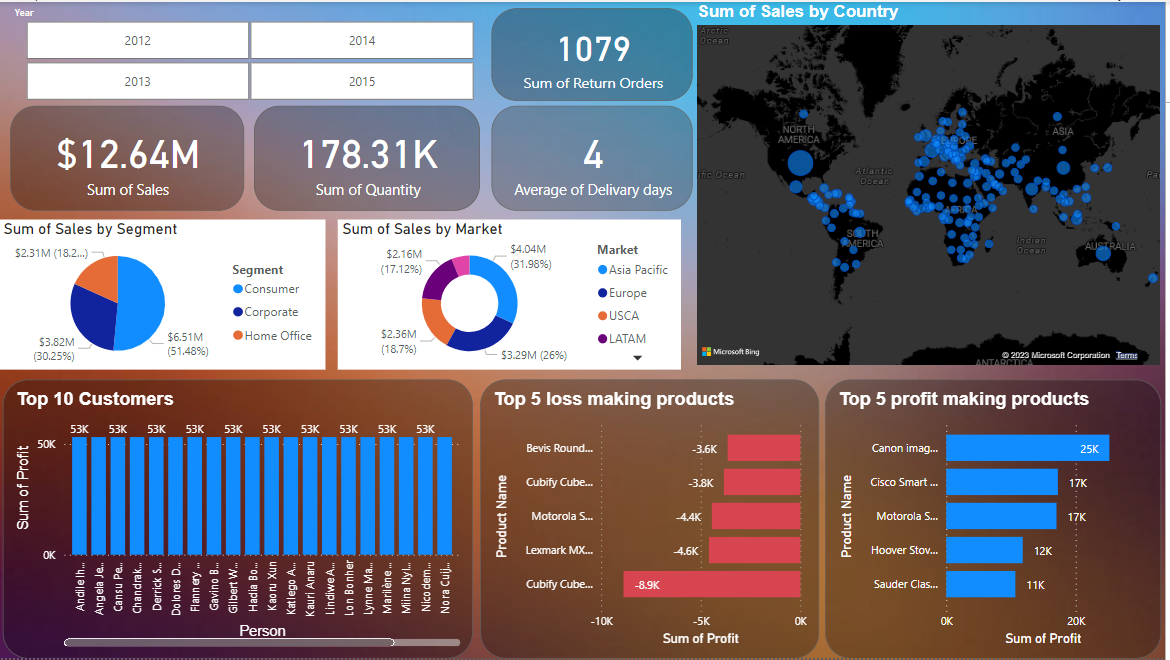

The page's visual inventory and layout, read from the dashboard file:
{"tool":"powerbi","page":{"name":"Page 1","canvas":[1280,720],"ordinal":0},"visuals":[{"type":"card","fields":{"Values":["Orders.Sales"]},"box":[12.3,113.9,256.6,115.3],"z":0},{"type":"card","fields":{"Values":["Orders.Quantity"]},"box":[279.9,113.9,248.4,115.3],"z":1000},{"type":"card","fields":{"Values":["Orders.Delivary days"]},"box":[540.7,113.9,220.9,115.3],"z":2000},{"type":"slicer","fields":{"Values":["Orders.Year"]},"box":[4.1,0,540.7,113.9],"z":3000},{"type":"card","fields":{"Values":["Returns.Return Orders"]},"box":[540.7,6.9,220.9,101.5],"z":4000},{"type":"map","fields":{"Category":["Orders.Country"],"Size":["Orders.Sales"]},"box":[761.7,0,518.3,403.3],"z":5000},{"type":"barChart","title":"Top 5 profit making products","fields":{"Category":["Orders.Product Name"],"Y":["Orders.Profit"]},"box":[907,414,369.1,306],"z":6000},{"type":"barChart","title":"Top 5 loss making products","fields":{"Category":["Orders.Product Name"],"Y":["Orders.Profit"]},"box":[528.3,414.4,371.9,306],"z":7000},{"type":"pieChart","fields":{"Category":["Orders.Segment"],"Y":["Orders.Sales"]},"box":[0,238.3,358.3,165],"z":8000},{"type":"donutChart","fields":{"Y":["Orders.Sales"],"Category":["Orders.Market"]},"box":[371.7,238.3,376.7,165],"z":9000},{"type":"columnChart","title":"Top 10 Customers","fields":{"Y":["Orders.Profit"],"Category":["People.Person"]},"box":[4.1,414,516,306],"z":10000}]}

Visuals, with their boxes in screenshot pixels (x1, y1, x2, y2), scaled from the page's 1280x720 canvas onto the 1170x660 screenshot:
card - Orders.Sales: 11/104/246/210
card - Orders.Quantity: 256/104/483/210
card - Orders.Delivary days: 494/104/696/210
slicer - Orders.Year: 4/0/498/104
card - Returns.Return Orders: 494/6/696/99
map - Orders.Country x Orders.Sales: 696/0/1169/370
"Top 5 profit making products" barChart: 829/380/1166/659
"Top 5 loss making products" barChart: 483/380/823/659
pieChart - Orders.Segment x Orders.Sales: 0/218/328/370
donutChart - Orders.Sales x Orders.Market: 340/218/684/370
"Top 10 Customers" columnChart: 4/380/475/659
